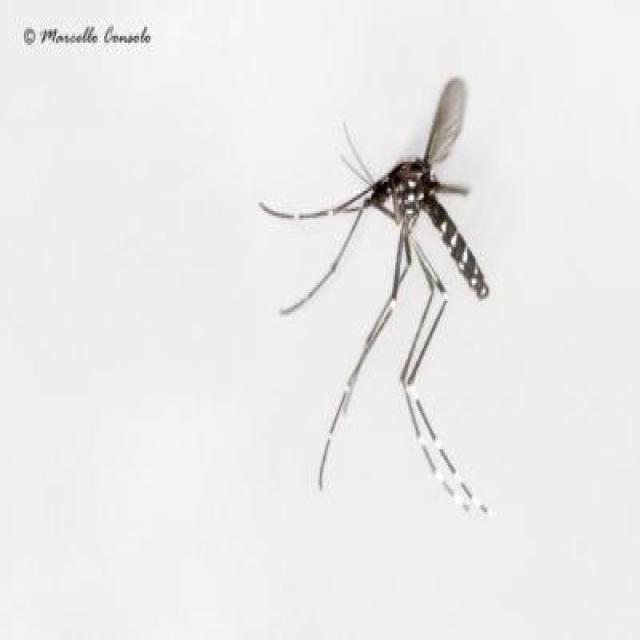antennae: (317, 116, 390, 202)
body: (364, 159, 490, 306)
insect: (255, 77, 508, 536)
legs: (275, 222, 491, 526)
mouthpart: (258, 176, 374, 235)
wings: (422, 77, 472, 173)
